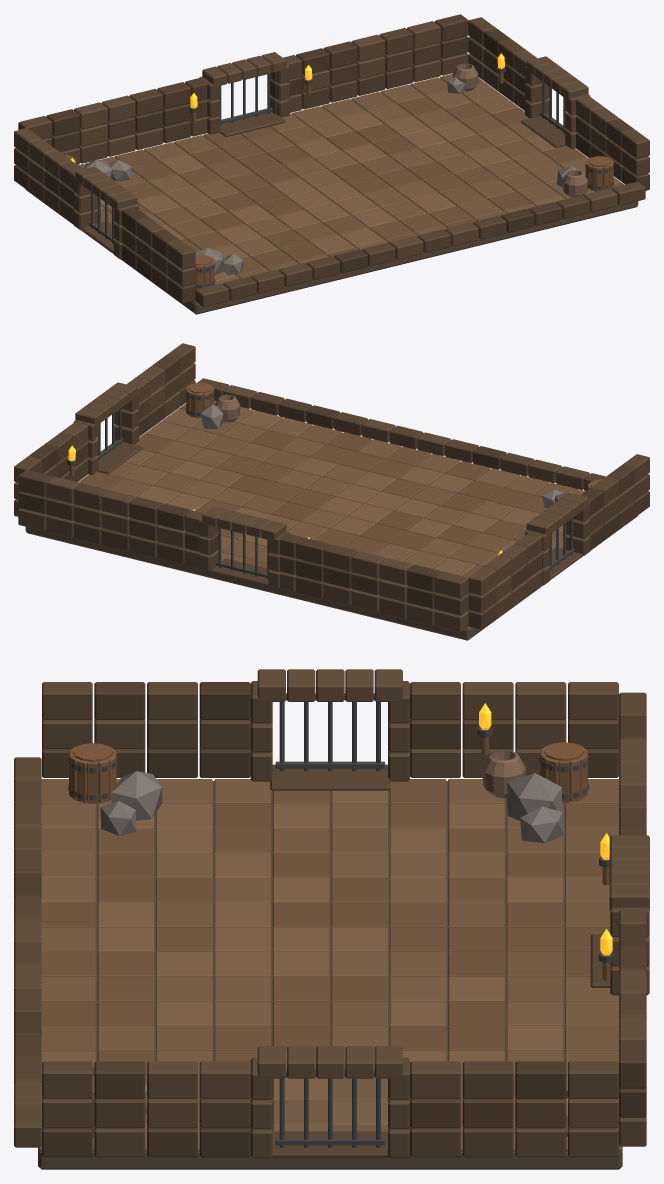
File: basement.glb
The picture shows the model from 3 angles, top to bottom: view 1: azimuth 30°, elevation 25°; view 2: azimuth 150°, elevation 25°; view 3: azimuth 270°, elevation 25°; orthographic projection. The views are drawn at different scales.
Visible parts, largest first — view 1: Basement_FloorTiles, Basement_Wall_Back, Basement_Wall_Front_Low, Basement_Wall_Left, Basement_Wall_Right, Basement_Foundation_12x8, Basement_Doorframe_North_Proposed, Basement_Doorframe_East_Proposed, Basement_Doorframe_West_Proposed, Basement_Cask_SE_Decoration, Basement_Threshold_North, Basement_Gate_North_Proposed (+6 smaller); view 2: Basement_FloorTiles, Basement_Wall_Back, Basement_Wall_Left, Basement_Wall_Front_Low, Basement_Wall_Right, Basement_Foundation_12x8, Basement_Doorframe_East_Proposed, Basement_Doorframe_North_Proposed, Basement_Doorframe_West_Proposed, Basement_Cask_SE_Decoration, Basement_Gate_North_Proposed, Basement_Threshold_East (+5 smaller); view 3: Basement_FloorTiles, Basement_Wall_Right, Basement_Wall_Left, Basement_Foundation_12x8, Basement_Wall_Front_Low, Basement_Wall_Back, Basement_Doorframe_East_Proposed, Basement_Doorframe_West_Proposed, Basement_Doorframe_North_Proposed, Basement_Threshold_West, Basement_Cask_SW_Decoration, Basement_Gate_East_Proposed (+8 smaller).
Boxes of the visible parts, box(x1,y1,x2,y2) form: Basement_FloorTiles: box(78, 74, 624, 305); Basement_Wall_Back: box(18, 14, 468, 164); Basement_Wall_Front_Low: box(195, 181, 645, 306); Basement_Wall_Left: box(14, 128, 195, 303); Basement_Wall_Right: box(468, 17, 649, 190); Basement_Foundation_12x8: box(25, 78, 638, 314); Basement_Doorframe_North_Proposed: box(199, 52, 289, 134); Basement_Doorframe_East_Proposed: box(525, 56, 590, 149); Basement_Doorframe_West_Proposed: box(73, 166, 138, 259); Basement_Cask_SE_Decoration: box(585, 156, 613, 191); Basement_Threshold_North: box(219, 111, 285, 136); Basement_Gate_North_Proposed: box(219, 73, 272, 125); Basement_FloorTiles: box(78, 400, 585, 631); Basement_Wall_Back: box(18, 470, 468, 632); Basement_Wall_Left: box(468, 454, 649, 629); Basement_Wall_Front_Low: box(197, 378, 605, 490); Basement_Wall_Right: box(14, 343, 195, 516); Basement_Foundation_12x8: box(25, 411, 638, 640); Basement_Doorframe_East_Proposed: box(73, 382, 138, 475); Basement_Doorframe_North_Proposed: box(199, 506, 289, 588); Basement_Doorframe_West_Proposed: box(525, 492, 590, 585); Basement_Cask_SE_Decoration: box(185, 382, 214, 417); Basement_Gate_North_Proposed: box(216, 528, 269, 579); Basement_Threshold_East: box(97, 440, 142, 473); Basement_FloorTiles: box(39, 779, 621, 1153); Basement_Wall_Right: box(42, 1061, 618, 1157); Basement_Wall_Left: box(42, 682, 618, 777); Basement_Foundation_12x8: box(38, 781, 622, 1169); Basement_Wall_Front_Low: box(14, 757, 41, 1147); Basement_Wall_Back: box(619, 692, 646, 1146); Basement_Doorframe_East_Proposed: box(250, 1046, 409, 1158); Basement_Doorframe_West_Proposed: box(250, 669, 409, 781); Basement_Doorframe_North_Proposed: box(609, 835, 649, 995); Basement_Threshold_West: box(270, 764, 390, 790); Basement_Cask_SW_Decoration: box(68, 743, 117, 803); Basement_Gate_East_Proposed: box(275, 1070, 384, 1147).
Bounding box in the file's own units: 12.75 × 1.82 × 8.7.
